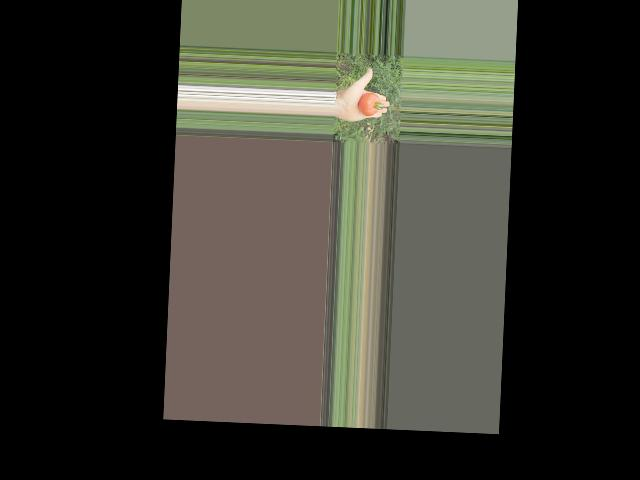tomato: (357, 92, 379, 117)
